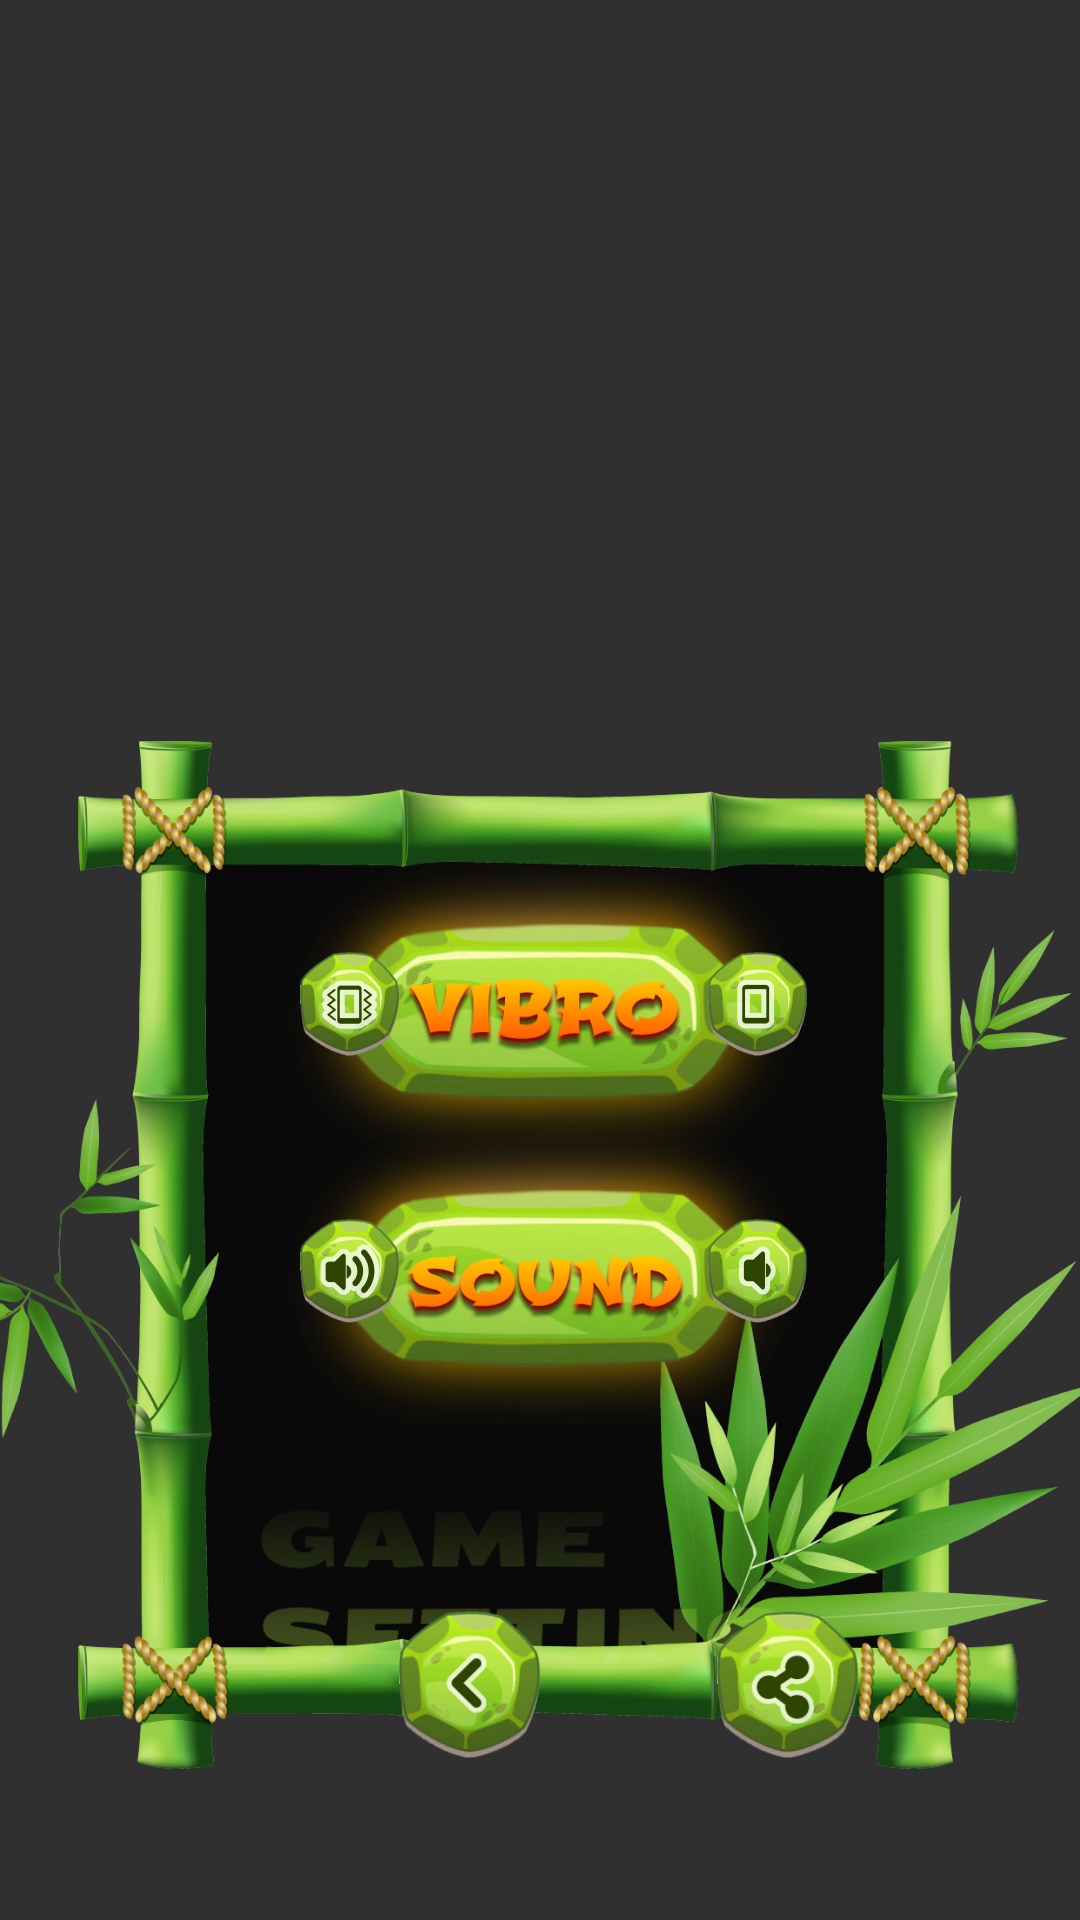

Where to tap for icons on this 1080px×1920px app screen, as [x,y]:
back: [469,1684]
sound off: [757,1271]
vibro off: [757,1004]
